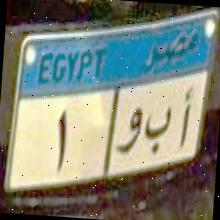1: (51, 101, 73, 173)
alif: (176, 84, 196, 154)
baa: (142, 102, 173, 159)
waw: (113, 102, 144, 164)
